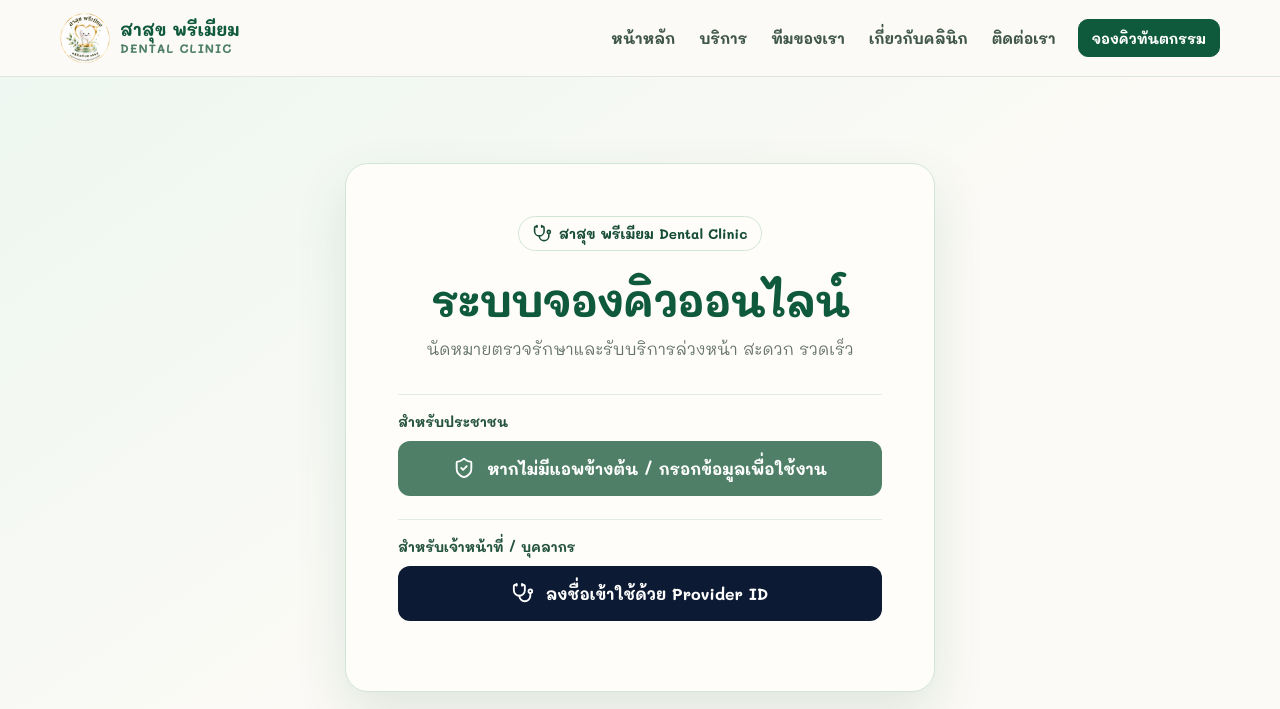
clinic SPA › lets mock Provider ID users choose Manager and open the booking dashboard
Click the button "ลงชื่อเข้าใช้ด้วย Provider ID": [640, 593] box [398, 566, 882, 621]
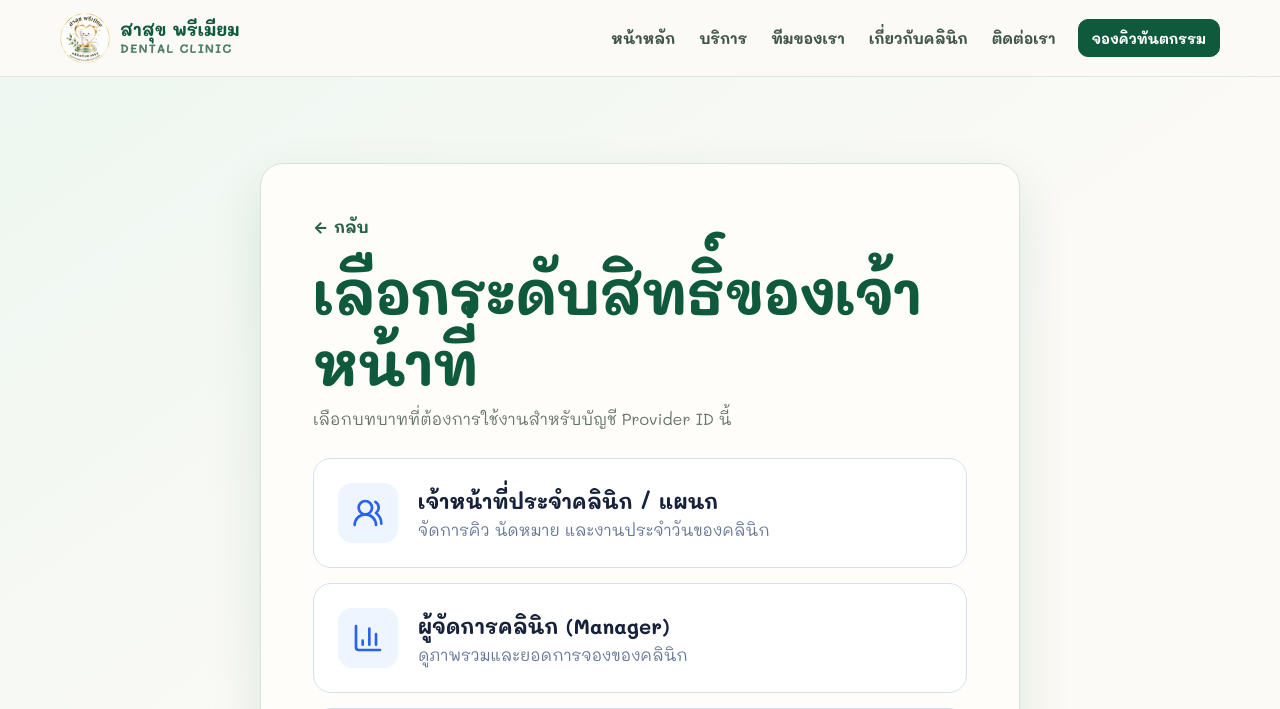
Now the heading "เลือกระดับสิทธิ์ของเจ้าหน้าที่" is shown, box [313, 257, 967, 398]
Click the button "ผู้จัดการคลินิก (Manager) ดูภาพรวมและยอดการจองของคลินิก": [640, 638] box [313, 583, 967, 693]
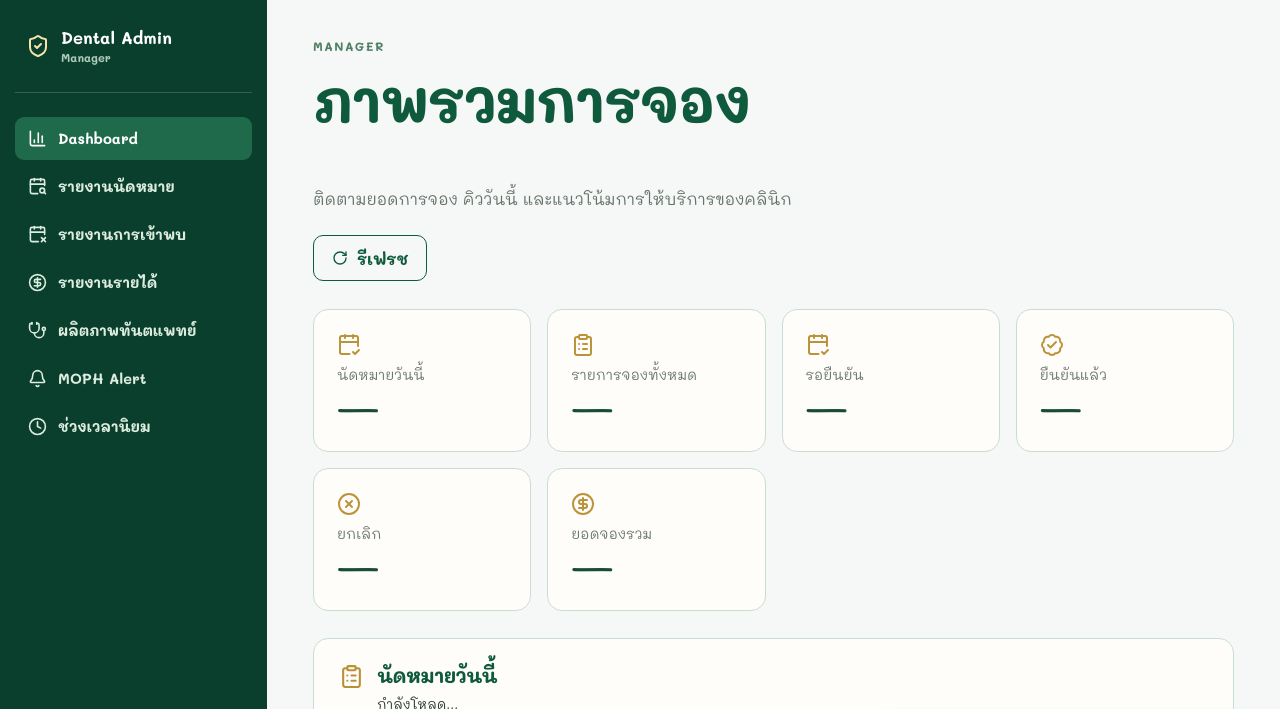
Now the heading "ภาพรวมการจอง" is shown, box [313, 61, 750, 138]
Now the navigation bar named "เมนูผู้ดูแลระบบ" is shown, box [15, 117, 252, 448]
Now the link "Dashboard" is shown, box [15, 117, 252, 160]
